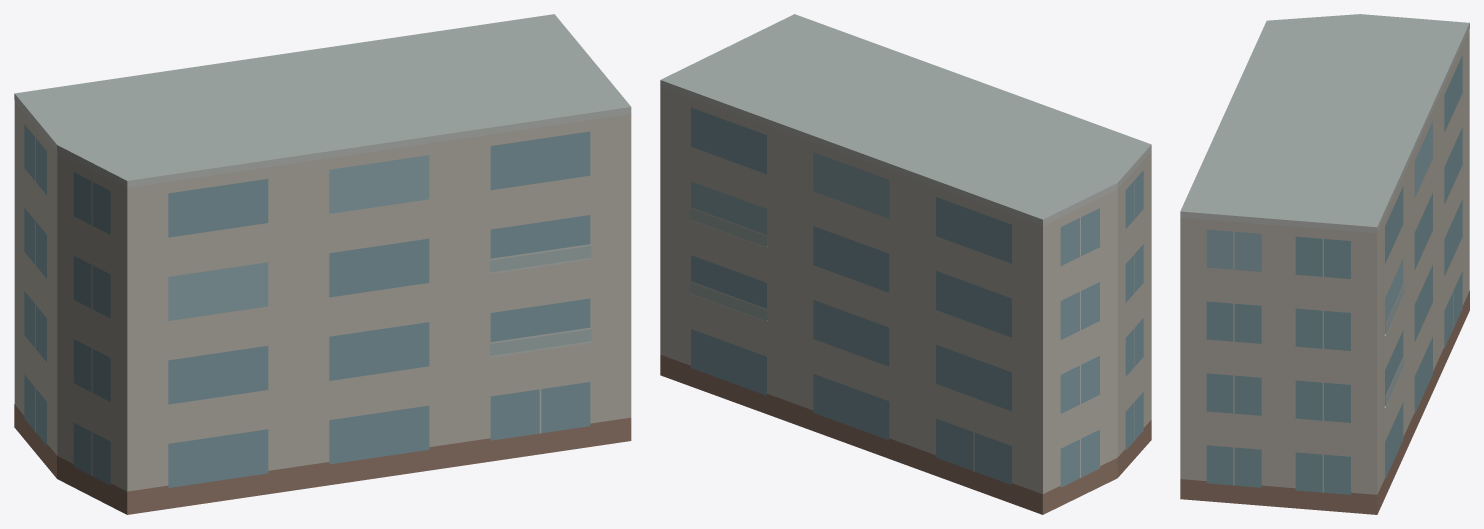
Rendered from survey-upis-32710045.glb.
3 views of the same model, side by side, from view 1: azimuth 30°, elevation 25°; view 2: azimuth 150°, elevation 25°; view 3: azimuth 270°, elevation 25° (orthographic). The views are drawn at different scales.
Parts seen in each view (by area): view 1: survey-upis-32710045.tmp; view 2: survey-upis-32710045.tmp; view 3: survey-upis-32710045.tmp.
Part boxes in pixels (left/top/right/bottom): survey-upis-32710045.tmp: left=14, top=14, right=631, bottom=514; survey-upis-32710045.tmp: left=660, top=14, right=1151, bottom=514; survey-upis-32710045.tmp: left=1180, top=14, right=1469, bottom=514.
Size of the model in its own units: 18.54 by 11.66 by 10.65.
